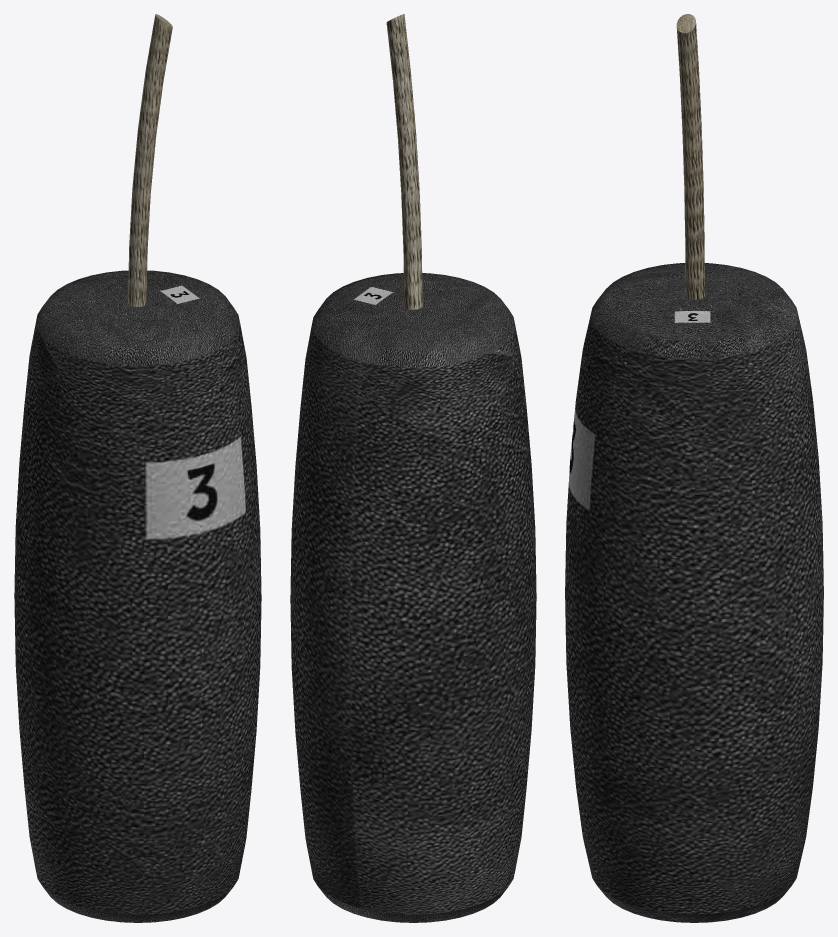
The model's file is punching bag black 3.FBX.
The picture shows the model from 3 angles, left to right: view 1: azimuth 30°, elevation 25°; view 2: azimuth 150°, elevation 25°; view 3: azimuth 270°, elevation 25°; orthographic projection.
Visible parts, largest first — view 1: Cylinder001, Cylinder002; view 2: Cylinder001, Cylinder002; view 3: Cylinder001, Cylinder002.
Part boxes in pixels (x1=…): Cylinder001: x1=14, y1=270, x2=261, y2=922; Cylinder002: x1=128, y1=14, x2=172, y2=306; Cylinder001: x1=290, y1=273, x2=536, y2=922; Cylinder002: x1=386, y1=14, x2=422, y2=309; Cylinder001: x1=565, y1=263, x2=823, y2=922; Cylinder002: x1=676, y1=14, x2=704, y2=299.
Size of the model in its own units: 54.37 by 216 by 56.99.
